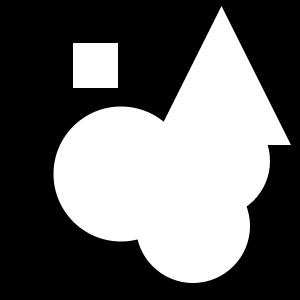circle: (73, 43, 118, 88)
rectangle: (53, 106, 188, 241), (136, 169, 250, 283), (158, 105, 270, 217)
triangle: (152, 6, 291, 145)
